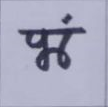anusvara: (63, 15, 71, 23)
